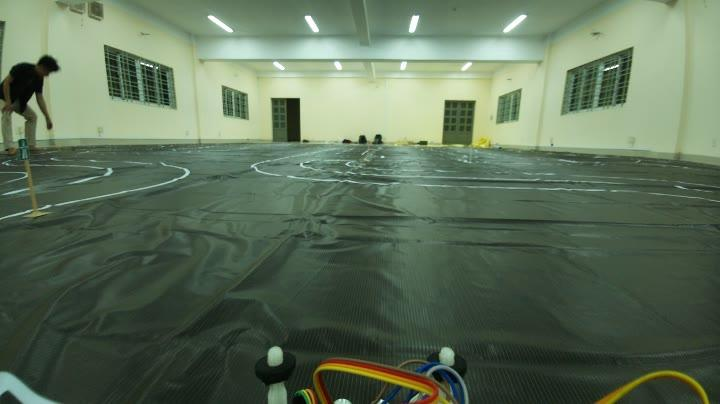highway_entry: (16, 136, 31, 164)
